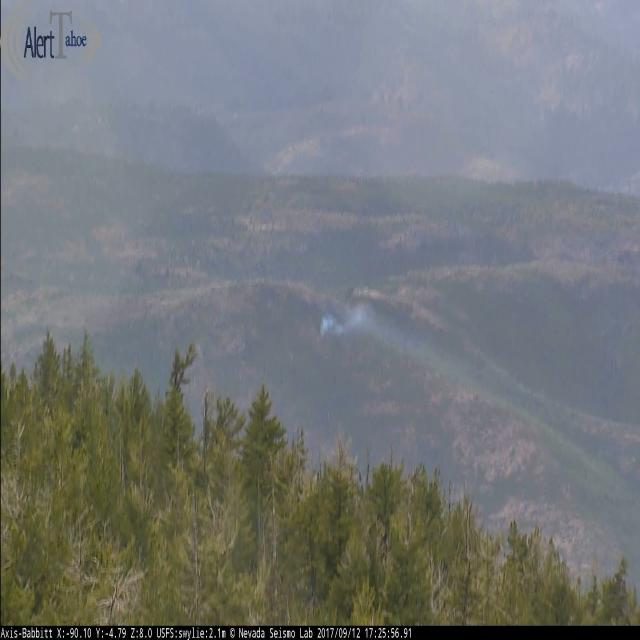smoke: (321, 299, 373, 342)
